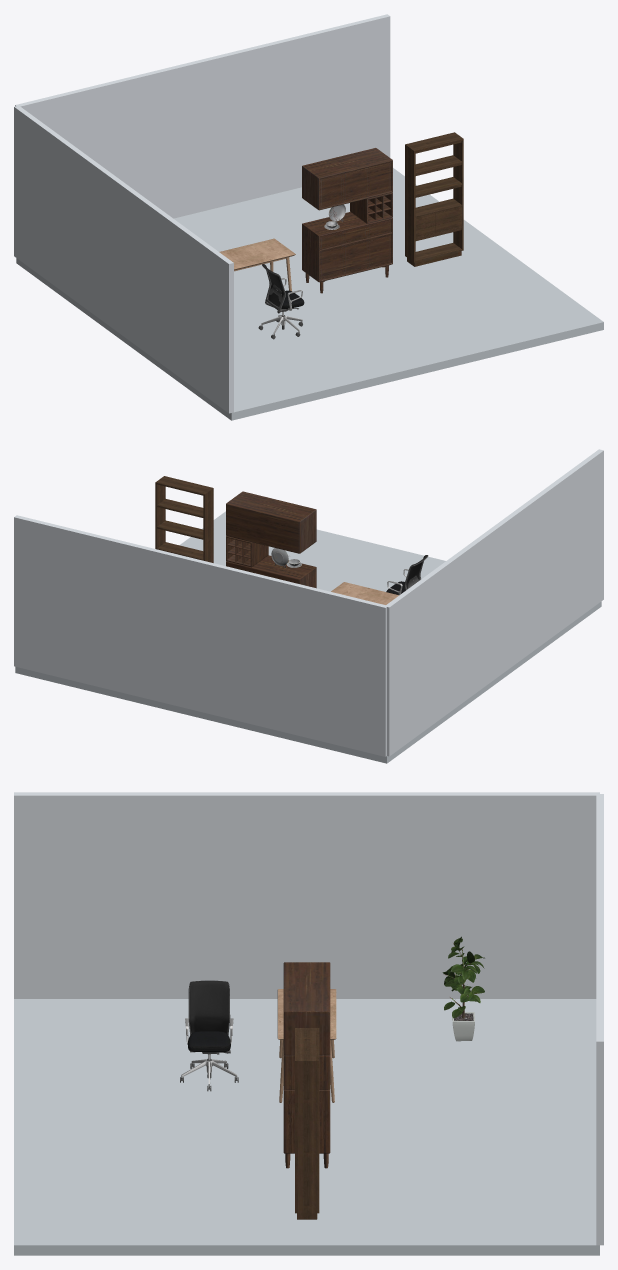
Rendered from stage3.glb.
3 views of the same model, one above another, from view 1: azimuth 30°, elevation 25°; view 2: azimuth 150°, elevation 25°; view 3: azimuth 270°, elevation 25° (orthographic). The views are drawn at different scales.
Parts seen in each view (by area): view 1: Floor, wall_back, wall_left, raw_model.003, raw_model.002, raw_model, raw_model.001; view 2: wall_back, wall_left, Floor, raw_model.003, raw_model.002, raw_model, raw_model.001; view 3: Floor, wall_left, raw_model.003, raw_model.002, raw_model.001, wall_back, raw_model.004, raw_model.
Boxes of the visible parts, box(x1,y1,x2,y2) form: Floor: box(16, 168, 603, 420); wall_back: box(15, 14, 390, 218); wall_left: box(14, 105, 233, 413); raw_model.003: box(302, 148, 392, 293); raw_model.002: box(405, 132, 463, 266); raw_model: box(219, 238, 295, 291); raw_model.001: box(258, 264, 304, 339); wall_back: box(14, 515, 387, 756); wall_left: box(386, 449, 603, 756); Floor: box(15, 511, 601, 763); raw_model.003: box(226, 491, 316, 588); raw_model.002: box(155, 476, 213, 562); raw_model: box(331, 582, 398, 604); raw_model.001: box(386, 555, 428, 595); Floor: box(14, 999, 599, 1255); wall_left: box(14, 792, 599, 998); raw_model.003: box(283, 962, 330, 1168); raw_model.002: box(295, 1028, 319, 1219); raw_model.001: box(180, 980, 238, 1091); wall_back: box(596, 794, 603, 1245); raw_model.004: box(442, 936, 484, 1041); raw_model: box(277, 989, 336, 1102).
Size of the model in its own units: 6.04 by 2.42 by 6.04.
Materials: 7 (5 with a texture image).
